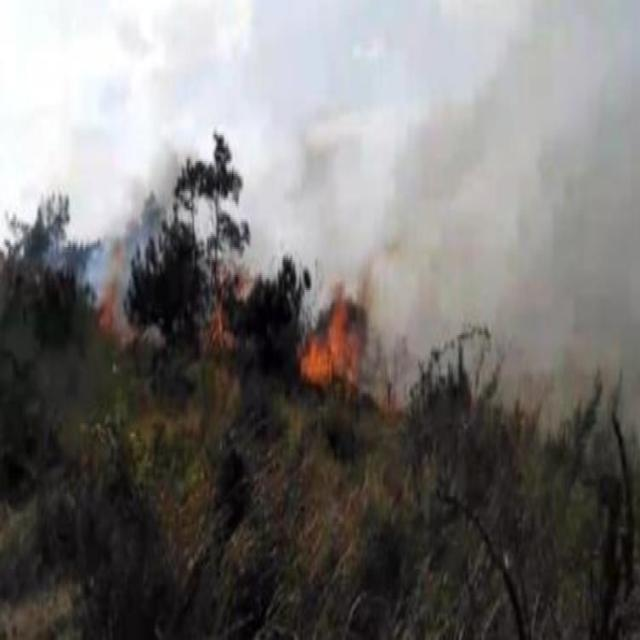Fire: (297, 284, 368, 393), (210, 255, 256, 342), (96, 240, 134, 342)
Smoke: (368, 0, 637, 449)
